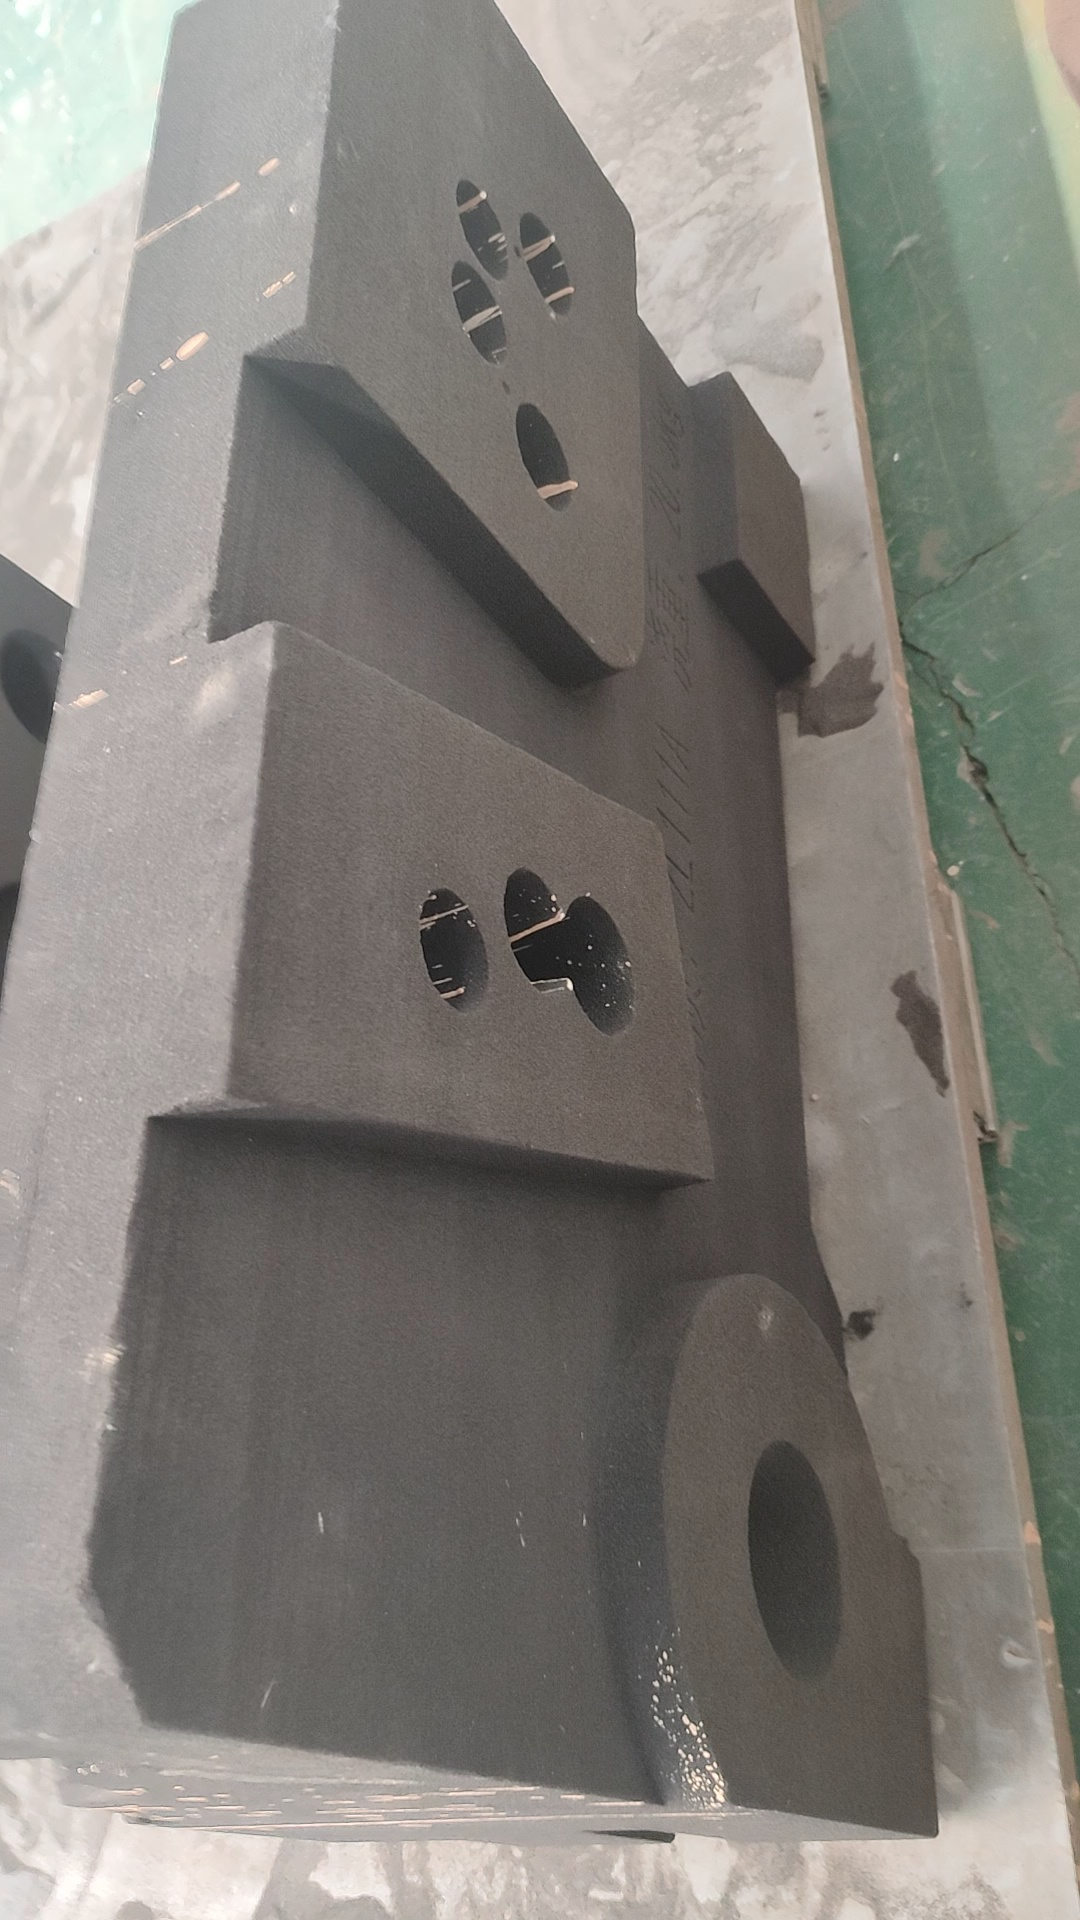pouring hole: (746, 1440, 845, 1680)
